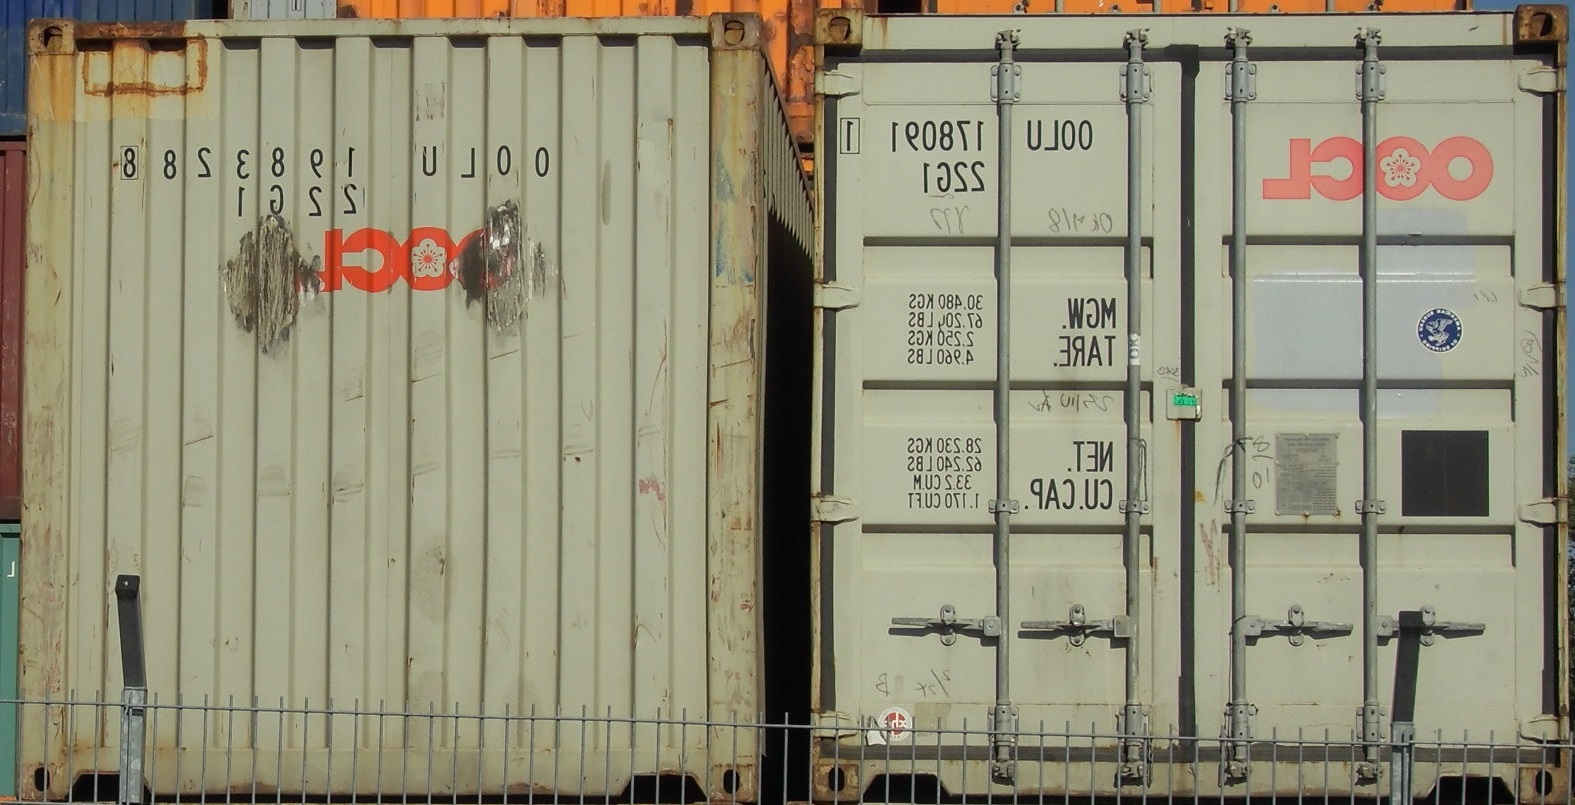container_door: (812, 18, 1571, 800)
container_no_door: (28, 7, 754, 805)
